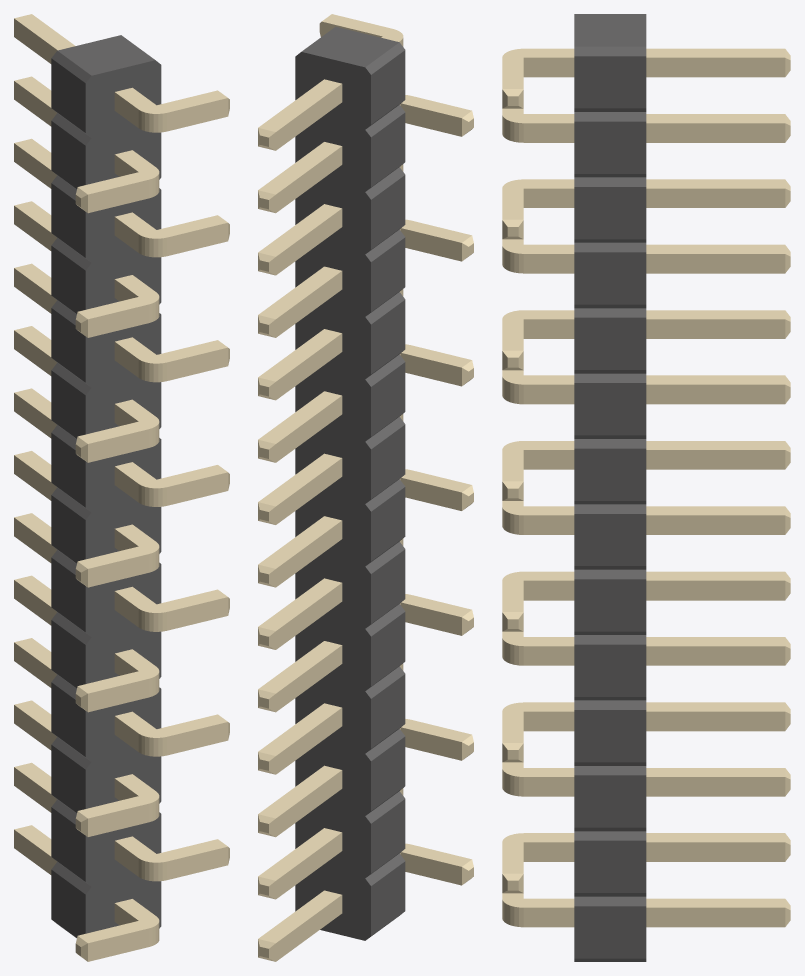
File: PinHeader_1x14_P1.00mm_Vertical_SMD_Pin1Left.glb
3 views of the same model, side by side, from view 1: azimuth 30°, elevation 25°; view 2: azimuth 150°, elevation 25°; view 3: azimuth 270°, elevation 25° (orthographic). The views are drawn at different scales.
Parts seen in each view (by area): view 1: Shape_IndexedFaceSet.003, Shape_IndexedFaceSet.001, Shape_IndexedFaceSet.007, Shape_IndexedFaceSet.079, Shape_IndexedFaceSet.019, Shape_IndexedFaceSet.031, Shape_IndexedFaceSet.043, Shape_IndexedFaceSet.067, Shape_IndexedFaceSet.055, Shape_IndexedFaceSet.049, Shape_IndexedFaceSet.013, Shape_IndexedFaceSet.061 (+74 smaller); view 2: Shape_IndexedFaceSet.004, Shape_IndexedFaceSet.001, Shape_IndexedFaceSet.007, Shape_IndexedFaceSet.043, Shape_IndexedFaceSet.037, Shape_IndexedFaceSet.049, Shape_IndexedFaceSet.055, Shape_IndexedFaceSet.061, Shape_IndexedFaceSet.067, Shape_IndexedFaceSet.079, Shape_IndexedFaceSet.085, Shape_IndexedFaceSet.013 (+47 smaller); view 3: Shape_IndexedFaceSet.022, Shape_IndexedFaceSet.052, Shape_IndexedFaceSet.070, Shape_IndexedFaceSet.082, Shape_IndexedFaceSet.002, Shape_IndexedFaceSet.010, Shape_IndexedFaceSet.016, Shape_IndexedFaceSet.028, Shape_IndexedFaceSet.034, Shape_IndexedFaceSet.040, Shape_IndexedFaceSet.058, Shape_IndexedFaceSet.064 (+73 smaller).
Boxes of the visible parts, <box> form: Shape_IndexedFaceSet.003: <box>85,60,161,933</box>; Shape_IndexedFaceSet.001: <box>57,35,155,75</box>; Shape_IndexedFaceSet.007: <box>51,58,85,132</box>; Shape_IndexedFaceSet.079: <box>51,807,85,881</box>; Shape_IndexedFaceSet.019: <box>51,183,85,257</box>; Shape_IndexedFaceSet.031: <box>51,308,85,382</box>; Shape_IndexedFaceSet.043: <box>51,433,85,507</box>; Shape_IndexedFaceSet.067: <box>51,682,85,756</box>; Shape_IndexedFaceSet.055: <box>51,557,85,631</box>; Shape_IndexedFaceSet.049: <box>51,495,85,563</box>; Shape_IndexedFaceSet.013: <box>51,121,85,188</box>; Shape_IndexedFaceSet.061: <box>51,620,85,688</box>; Shape_IndexedFaceSet.004: <box>295,52,370,940</box>; Shape_IndexedFaceSet.001: <box>301,26,399,67</box>; Shape_IndexedFaceSet.007: <box>371,50,405,124</box>; Shape_IndexedFaceSet.043: <box>371,425,405,499</box>; Shape_IndexedFaceSet.037: <box>371,362,405,436</box>; Shape_IndexedFaceSet.049: <box>371,487,405,561</box>; Shape_IndexedFaceSet.055: <box>371,549,405,623</box>; Shape_IndexedFaceSet.061: <box>371,612,405,686</box>; Shape_IndexedFaceSet.067: <box>371,674,405,748</box>; Shape_IndexedFaceSet.079: <box>371,799,405,873</box>; Shape_IndexedFaceSet.085: <box>371,861,405,935</box>; Shape_IndexedFaceSet.013: <box>371,113,405,186</box>; Shape_IndexedFaceSet.022: <box>574,252,646,304</box>; Shape_IndexedFaceSet.052: <box>574,579,646,631</box>; Shape_IndexedFaceSet.070: <box>574,775,646,827</box>; Shape_IndexedFaceSet.082: <box>574,906,646,958</box>; Shape_IndexedFaceSet.002: <box>574,56,646,108</box>; Shape_IndexedFaceSet.010: <box>574,121,646,173</box>; Shape_IndexedFaceSet.016: <box>574,187,646,239</box>; Shape_IndexedFaceSet.028: <box>574,317,646,369</box>; Shape_IndexedFaceSet.034: <box>574,383,646,435</box>; Shape_IndexedFaceSet.040: <box>574,448,646,500</box>; Shape_IndexedFaceSet.058: <box>574,644,646,696</box>; Shape_IndexedFaceSet.064: <box>574,710,646,762</box>.
Size of the model in its own units: 0.984 by 5.51 by 1.58.
